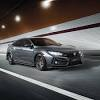Honda: (6, 37, 85, 70)
